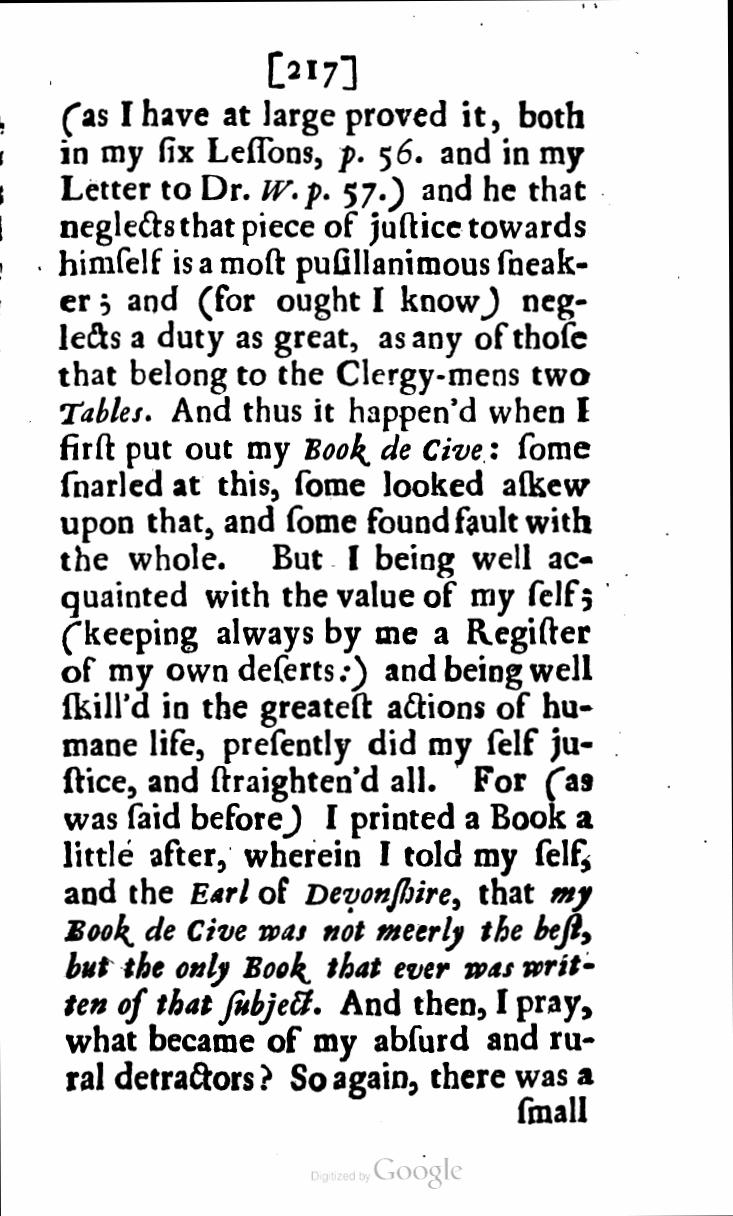catchword: (512, 1093, 600, 1130)
page_num: (287, 58, 340, 87)
top_p: (60, 102, 597, 1093)
